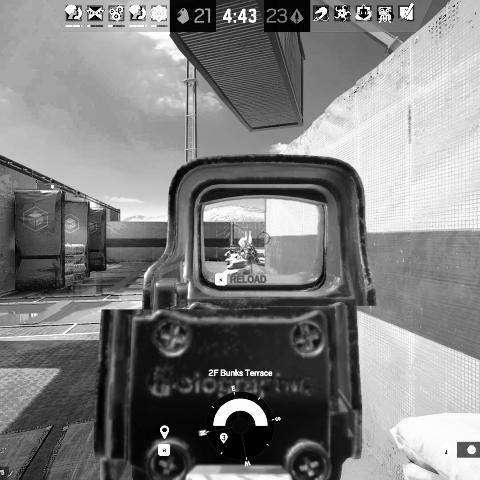Character: (230, 236, 261, 275)
Head: (238, 237, 250, 249)
